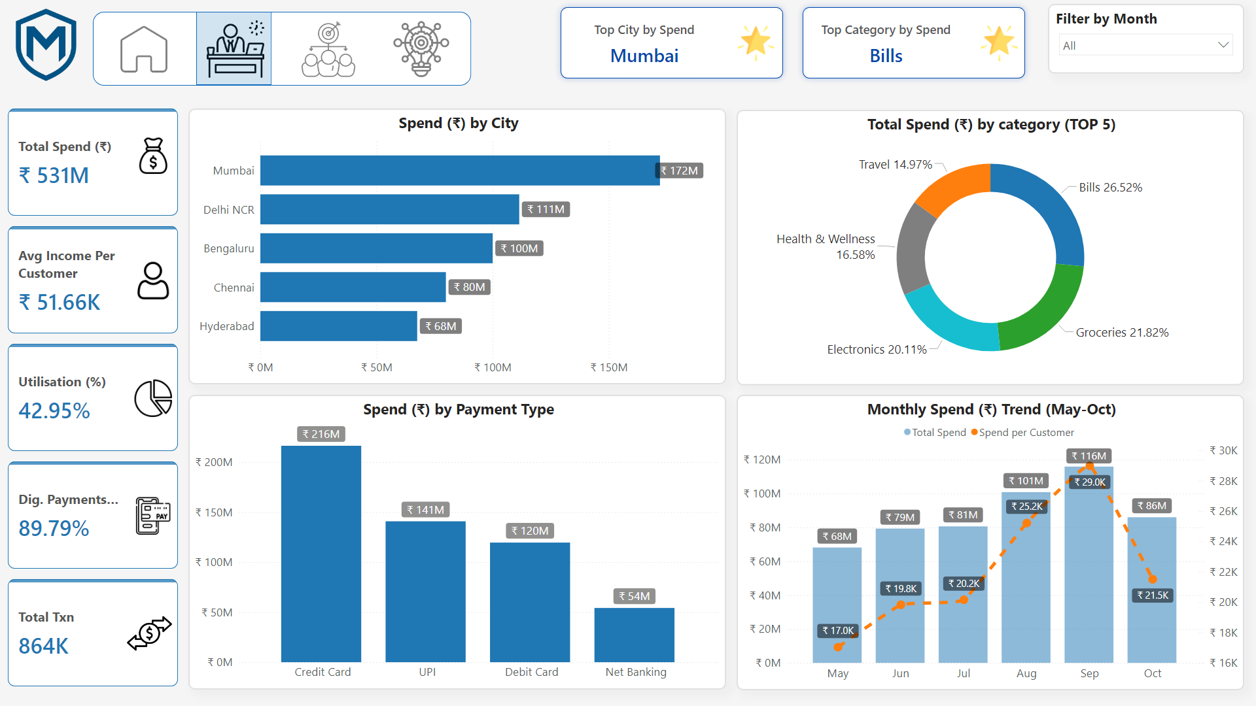

This screenshot's page, from the dashboard's own definition file:
{"tool":"powerbi","page":{"name":"Executive Summary","canvas":[1920,1080],"ordinal":1},"visuals":[{"type":"shape","box":[141.3,17.4,578.3,113],"z":0,"group":"g5"},{"type":"image","box":[167.4,25.6,104.3,97.8],"z":0,"group":"g2"},{"type":"image","box":[308.7,25.6,104.3,97.8],"z":0,"group":"g3"},{"type":"image","box":[450,25.6,104.3,97.8],"z":0,"group":"g4"},{"type":"image","box":[591.3,25.6,104.3,97.8],"z":0,"group":"g1"},{"type":"cardVisual","fields":{"Data":["Key_Measures.Total Spend","Key_Measures.Avg Income per Customer","Key_Measures.Avg Income Utilisation % (Optimized)","Key_Measures.Digital Payments %","Key_Measures.Total Transactions"]},"box":[11.1,166.7,260,888.9],"z":0},{"type":"shape","box":[300,17.4,115.2,112],"z":1000,"group":"g3"},{"type":"actionButton","box":[450,25.6,104.3,97.8],"z":1000,"group":"g4"},{"type":"group","id":"g1","title":"Insights","box":[589.1,25.6,106.5,97.8],"z":1000,"group":"g5"},{"type":"actionButton","box":[589.1,25.6,104.3,97.8],"z":1000,"group":"g1"},{"type":"actionButton","box":[167.4,26.1,104.3,97.8],"z":1000,"group":"g2"},{"type":"clusteredBarChart","title":"Spend (₹) by City","fields":{"Category":["dim_customers.city"],"Y":["Key_Measures.Total Spend"]},"box":[288.9,166.7,822.2,422.2],"z":1000},{"type":"group","id":"g2","title":"Home","box":[167.4,25.6,104.3,98.4],"z":2000,"group":"g5"},{"type":"donutChart","title":"Total Spend (₹) by category (TOP 5)","fields":{"Category":["fact_spends.category"],"Y":["Key_Measures.Total Spend"]},"box":[1126.1,167.4,776.1,421.7],"z":2000},{"type":"group","id":"g3","title":"Executive","box":[300,17.4,115.2,112],"z":3000,"group":"g5"},{"type":"columnChart","title":"Spend (₹) by Payment Type","fields":{"Category":["fact_spends.payment_type"],"Y":["Key_Measures.Total Spend"]},"box":[288.9,604.4,822.2,451.1],"z":3000},{"type":"slicer","title":"Filter by Month","fields":{"Values":["Calendar.Month-Name"]},"box":[1602.2,6.7,300,106.7],"z":4000},{"type":"group","id":"g4","title":"Customer","box":[450,25.6,104.3,97.8],"z":4000,"group":"g5"},{"type":"image","box":[11.1,6.7,115.6,124.4],"z":5000},{"type":"cardVisual","fields":{"Data":["Key_Measures.Top City by Spend","Key_Measures.Top Category by Spend"]},"box":[846.7,0,733.3,131.1],"z":6000},{"type":"lineClusteredColumnComboChart","title":"Monthly Spend (₹) Trend (May-Oct)","fields":{"Category":["Calendar.Month-Name"],"Y":["Key_Measures.Total Spend"],"Y2":["Key_Measures.Spend per Customer"]},"box":[1126.1,604.3,776.1,452.2],"z":7000},{"type":"group","id":"g5","title":"Nav Bar","box":[141.3,17.4,578.3,113],"z":8000}]}

Visuals, with their boxes in screenshot pixels (x1, y1, x2, y2), scaled from the page's 1920x1080 canvas onto the 1256x719 screenshot:
shape: 92 12 471 87
image: 110 17 178 82
image: 202 17 270 82
image: 294 17 363 82
image: 387 17 455 82
cardVisual - Key_Measures.Total Spend x Key_Measures.Avg Income per Customer: 7 111 177 703
shape: 196 12 272 86
actionButton: 294 17 363 82
"Insights" group: 385 17 455 82
actionButton: 385 17 454 82
actionButton: 110 17 178 82
"Spend (₹) by City" clusteredBarChart: 189 111 727 392
"Home" group: 110 17 178 83
"Total Spend (₹) by category (TOP 5)" donutChart: 737 111 1244 392
"Executive" group: 196 12 272 86
"Spend (₹) by Payment Type" columnChart: 189 402 727 703
"Filter by Month" slicer: 1048 4 1244 75
"Customer" group: 294 17 363 82
image: 7 4 83 87
cardVisual - Key_Measures.Top City by Spend x Key_Measures.Top Category by Spend: 554 0 1034 87
"Monthly Spend (₹) Trend (May-Oct)" lineClusteredColumnComboChart: 737 402 1244 703
"Nav Bar" group: 92 12 471 87
